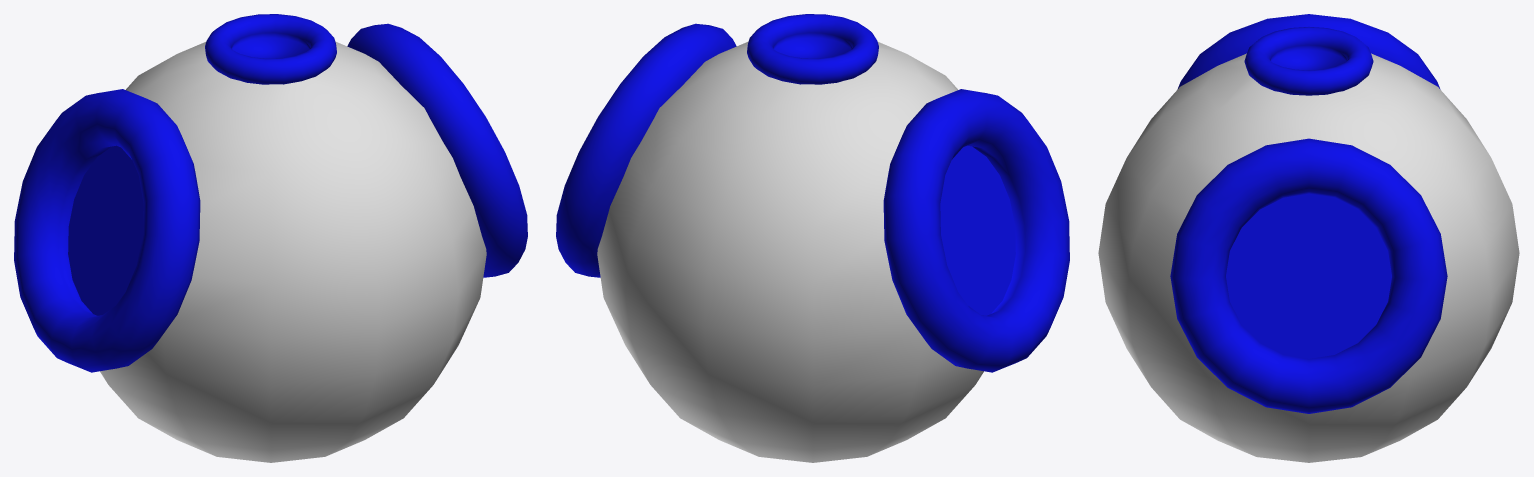
The model's file is NLS_DUO Space Suit Torso.fbx.
3 views of the same model, side by side, from view 1: azimuth 30°, elevation 25°; view 2: azimuth 150°, elevation 25°; view 3: azimuth 270°, elevation 25° (orthographic). The views are drawn at different scales.
Visible parts, largest first — view 1: NLS_DUO Space Suit Torso; view 2: NLS_DUO Space Suit Torso; view 3: NLS_DUO Space Suit Torso.
Boxes of the visible parts, x1,y1,x2,y2 form: NLS_DUO Space Suit Torso: (14, 14, 527, 462); NLS_DUO Space Suit Torso: (556, 14, 1069, 462); NLS_DUO Space Suit Torso: (1098, 14, 1519, 462).
Size of the model in its own units: 65.13 by 57.49 by 55.65.
